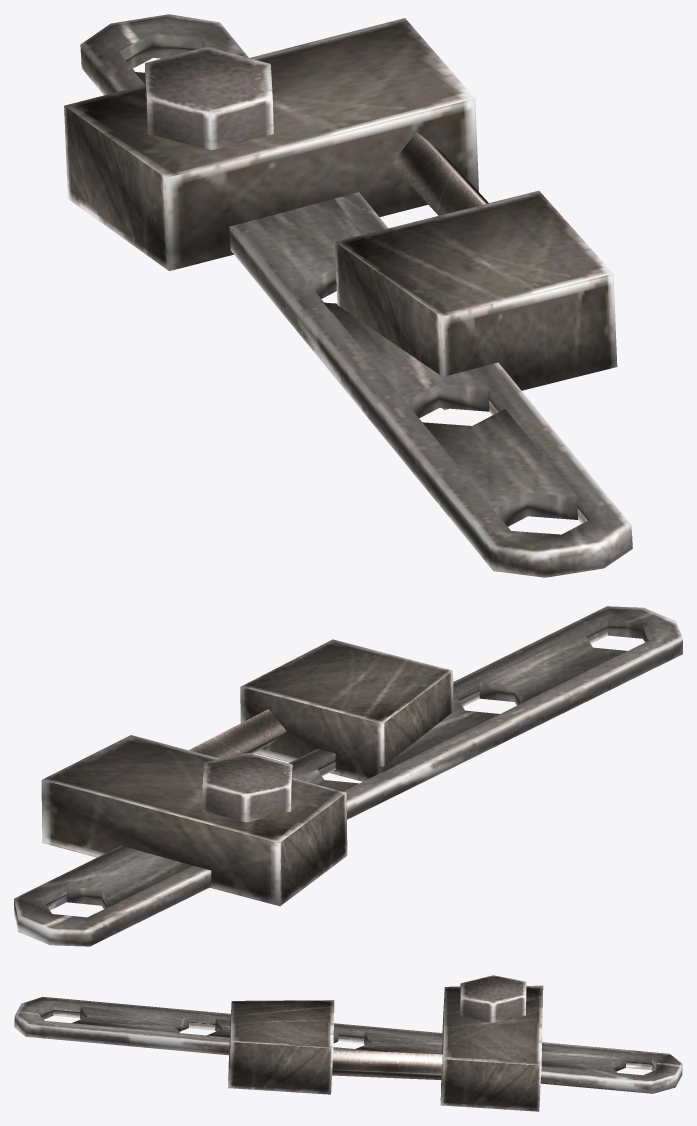
Rendered from Robot01.RightShoulder3.fbx.
3 views of the same model, one above another, from view 1: azimuth 30°, elevation 25°; view 2: azimuth 150°, elevation 25°; view 3: azimuth 270°, elevation 25° (orthographic). The views are drawn at different scales.
Parts seen in each view (by area): view 1: Robot.026; view 2: Robot.026; view 3: Robot.026.
Part boxes in pixels (box(x1,y1,x2,y2)): Robot.026: box(64, 14, 632, 577); Robot.026: box(14, 606, 682, 946); Robot.026: box(14, 975, 682, 1111).
Bounding box in the file's own units: 31.66 × 9.78 × 88.73.
